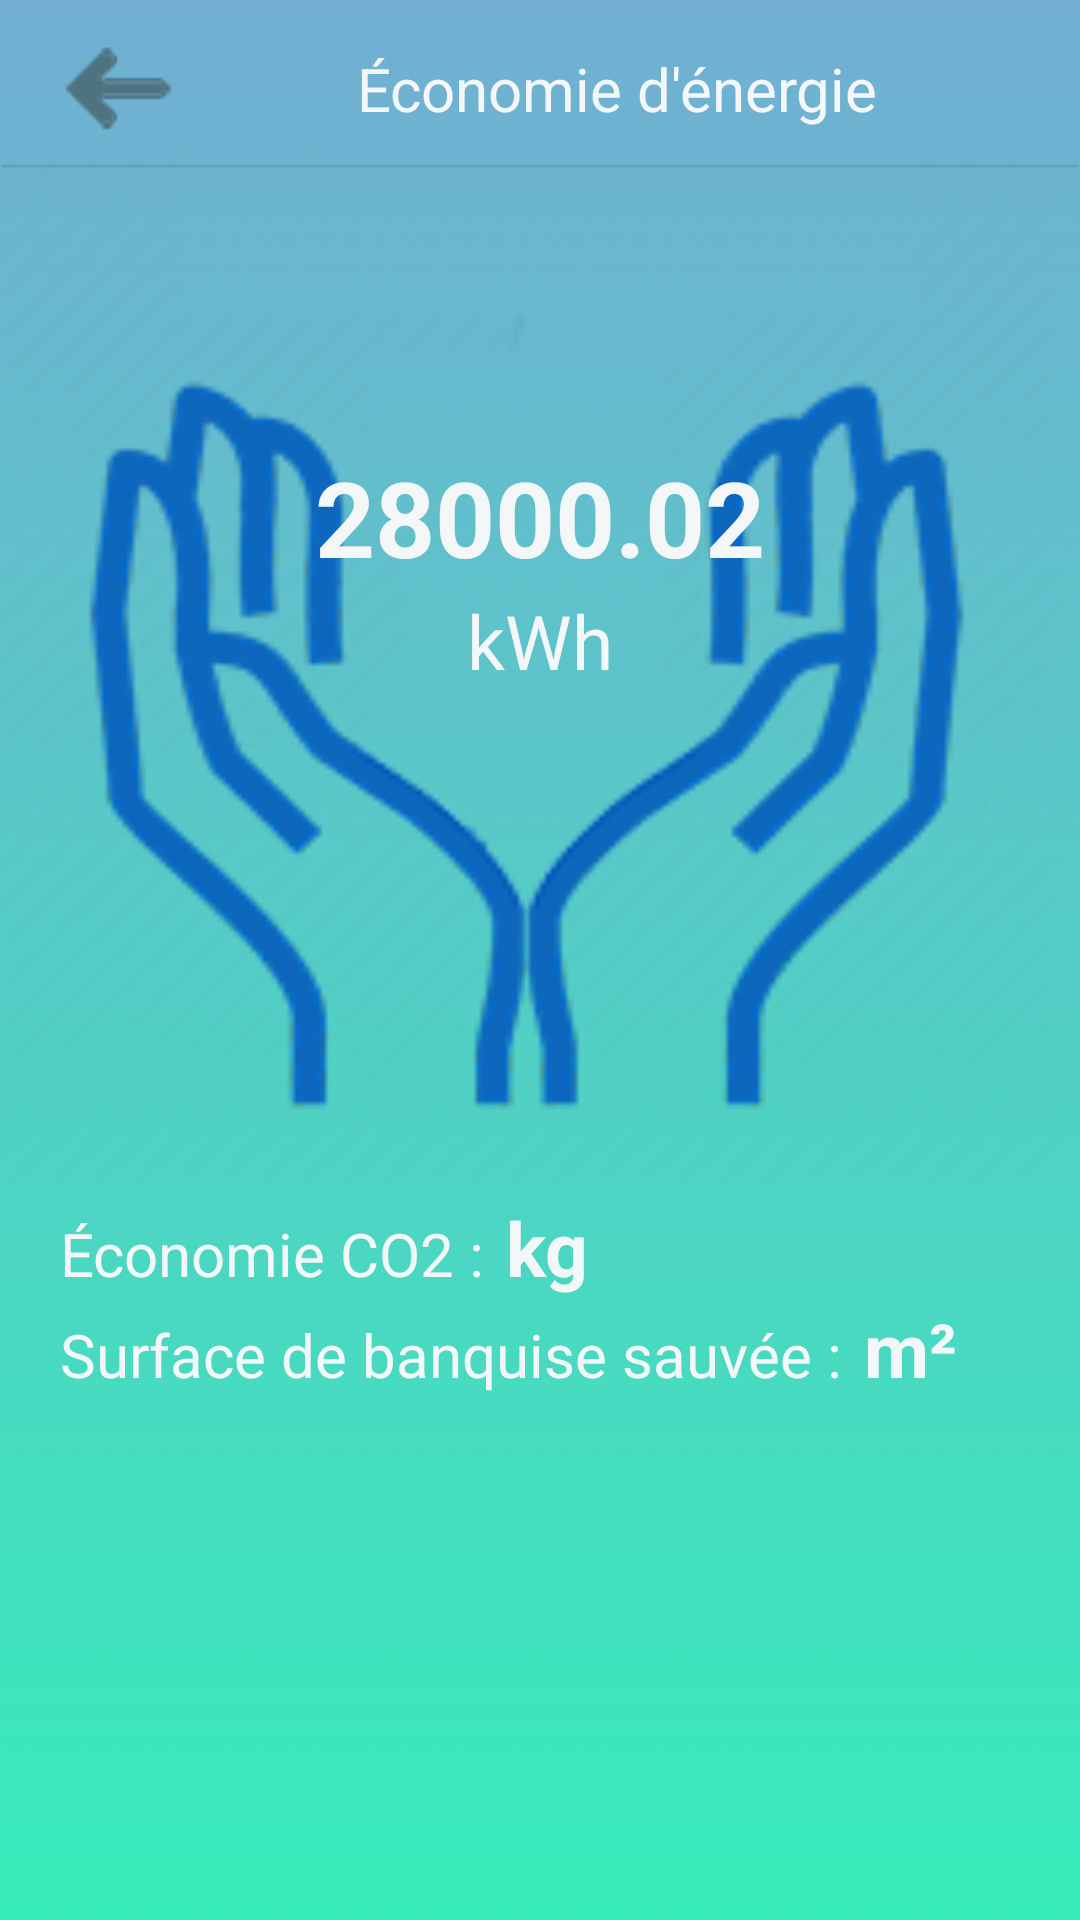

Named icons in this screenshot (1080px x 1920px) and their centers, (x,y):
back: (118,89)
